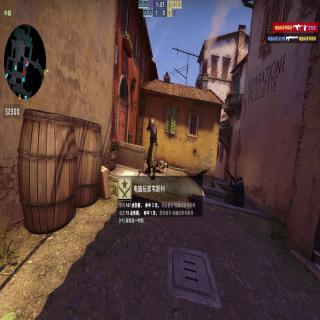T-Body: (146, 113, 158, 181)
T-Head: (150, 113, 154, 124)
